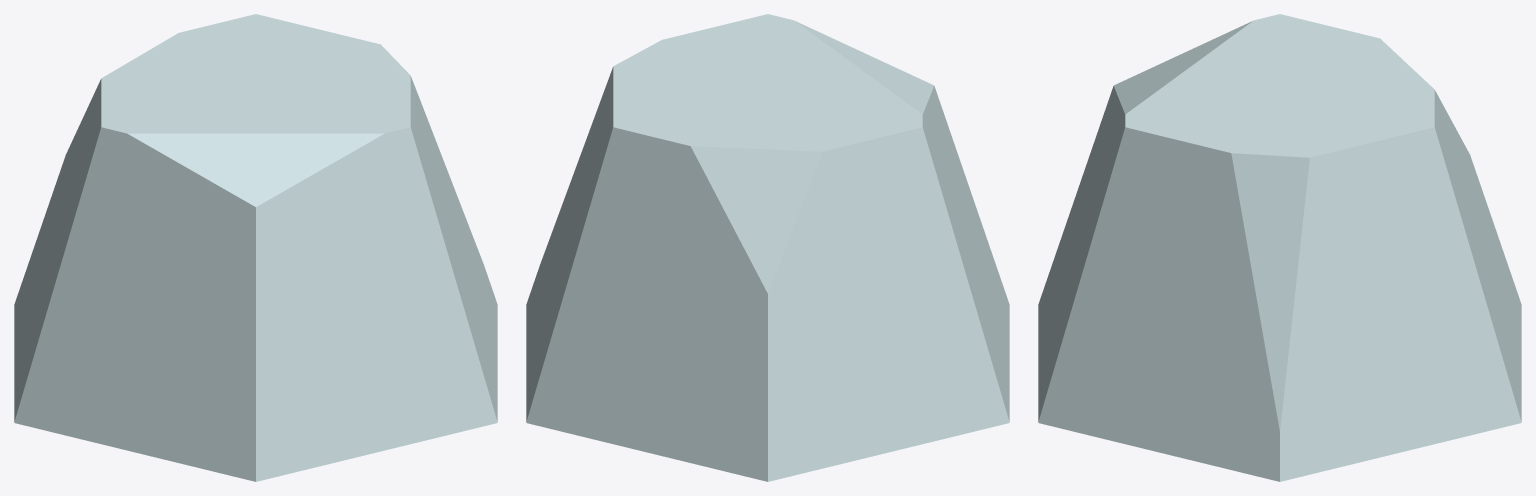
The model's file is stone_small4.glb.
3 views of the same model, side by side, from view 1: azimuth 30°, elevation 25°; view 2: azimuth 150°, elevation 25°; view 3: azimuth 270°, elevation 25° (orthographic).
Visible parts, largest first — view 1: stone_small4; view 2: stone_small4; view 3: stone_small4.
Boxes of the visible parts, x1,y1,x2,y2 form: stone_small4: (14,14,497,481); stone_small4: (526,14,1009,481); stone_small4: (1038,14,1521,481).
Bounding box in the file's own units: 0.4257 × 0.2309 × 0.3687.
